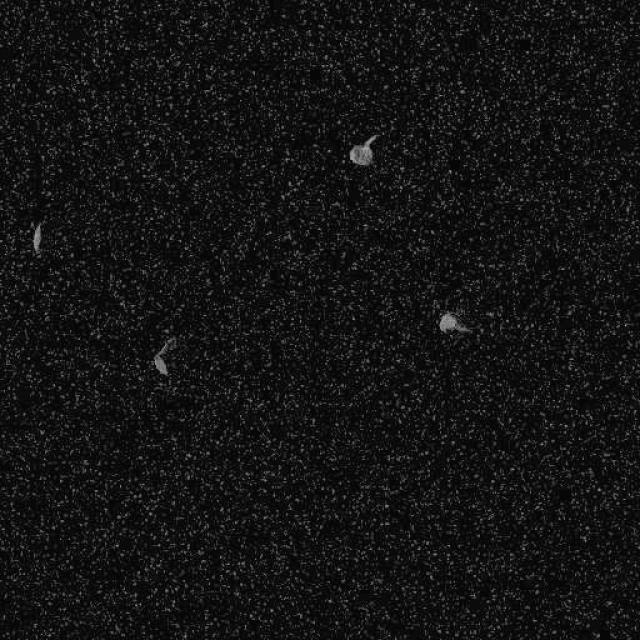D2: (348, 132, 378, 166), (152, 335, 176, 376), (437, 311, 472, 335), (30, 220, 44, 254)
